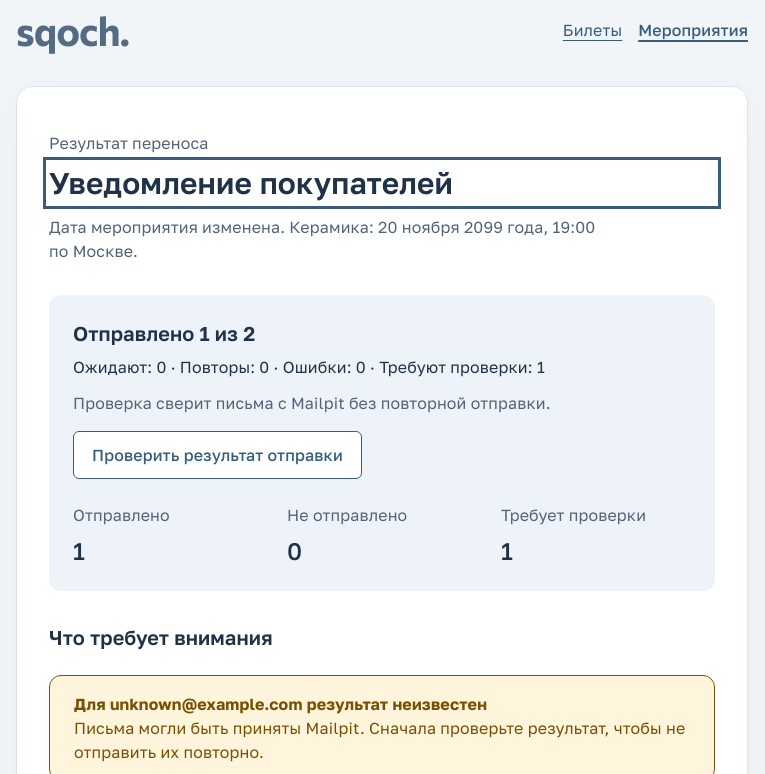
Test: Кабинет организатора — test first › показывает unknown и выполняет только явную сверку Mailpit, без переотправки
Check: the heading "Отправлено 1 из 2" is shown, box top-left (73, 321), bottom-right (255, 345)
Check: the text "Требует проверки" is shown, box top-left (501, 505), bottom-right (646, 525)
Click the button "Проверить результат отправки".
click(218, 455)  # box top-left (73, 431), bottom-right (362, 479)
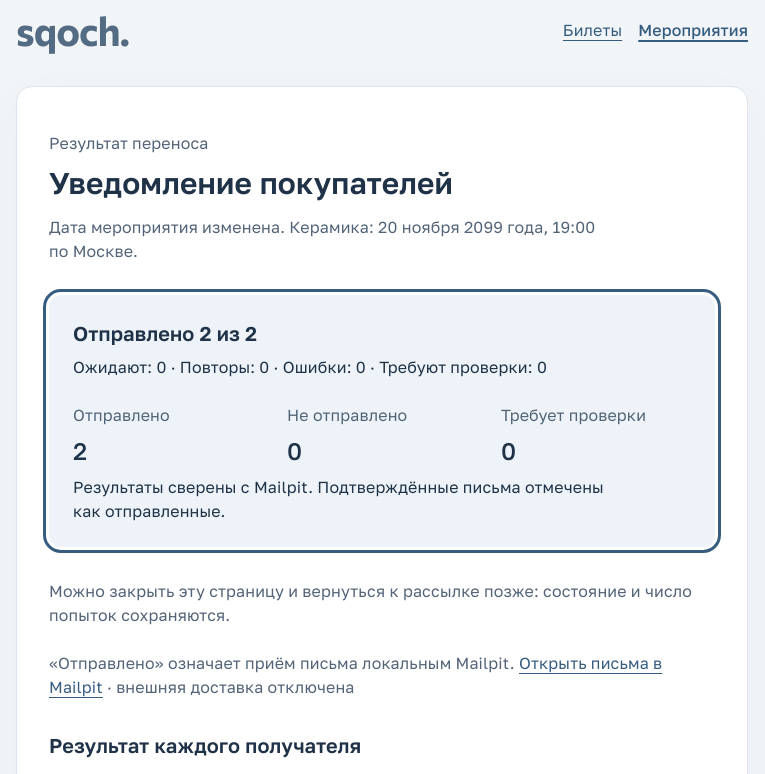
Check: the heading "Отправлено 2 из 2" is shown, box top-left (73, 321), bottom-right (257, 345)
